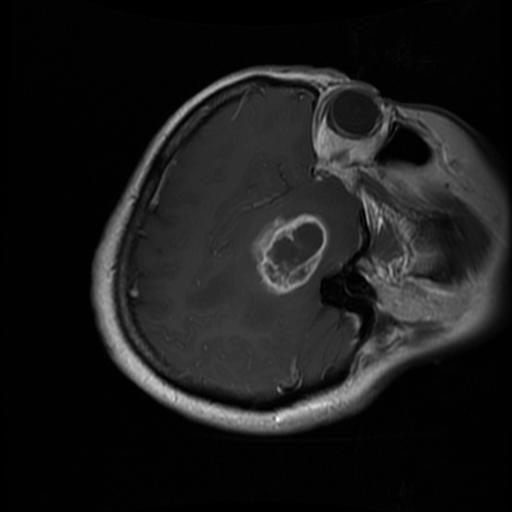glioma: (253, 215, 331, 298)
